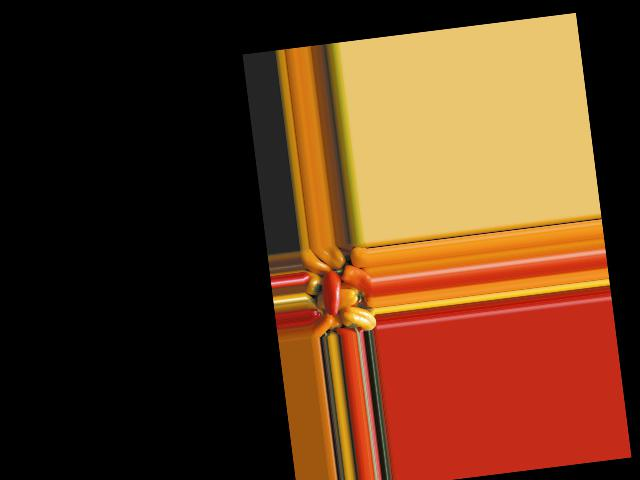bell_pepper: (342, 302, 376, 334)
